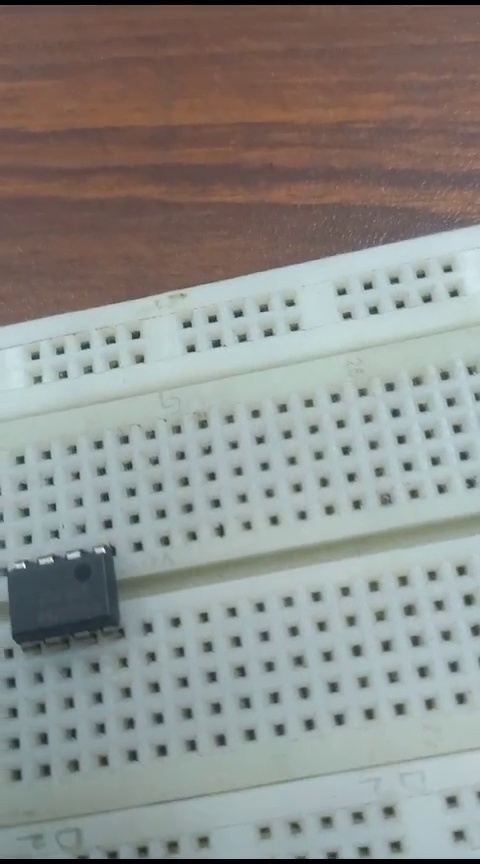IC: (4, 549, 122, 644)
